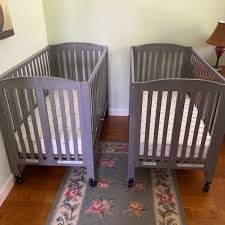crib: (0, 43, 107, 185), (128, 44, 224, 190)
